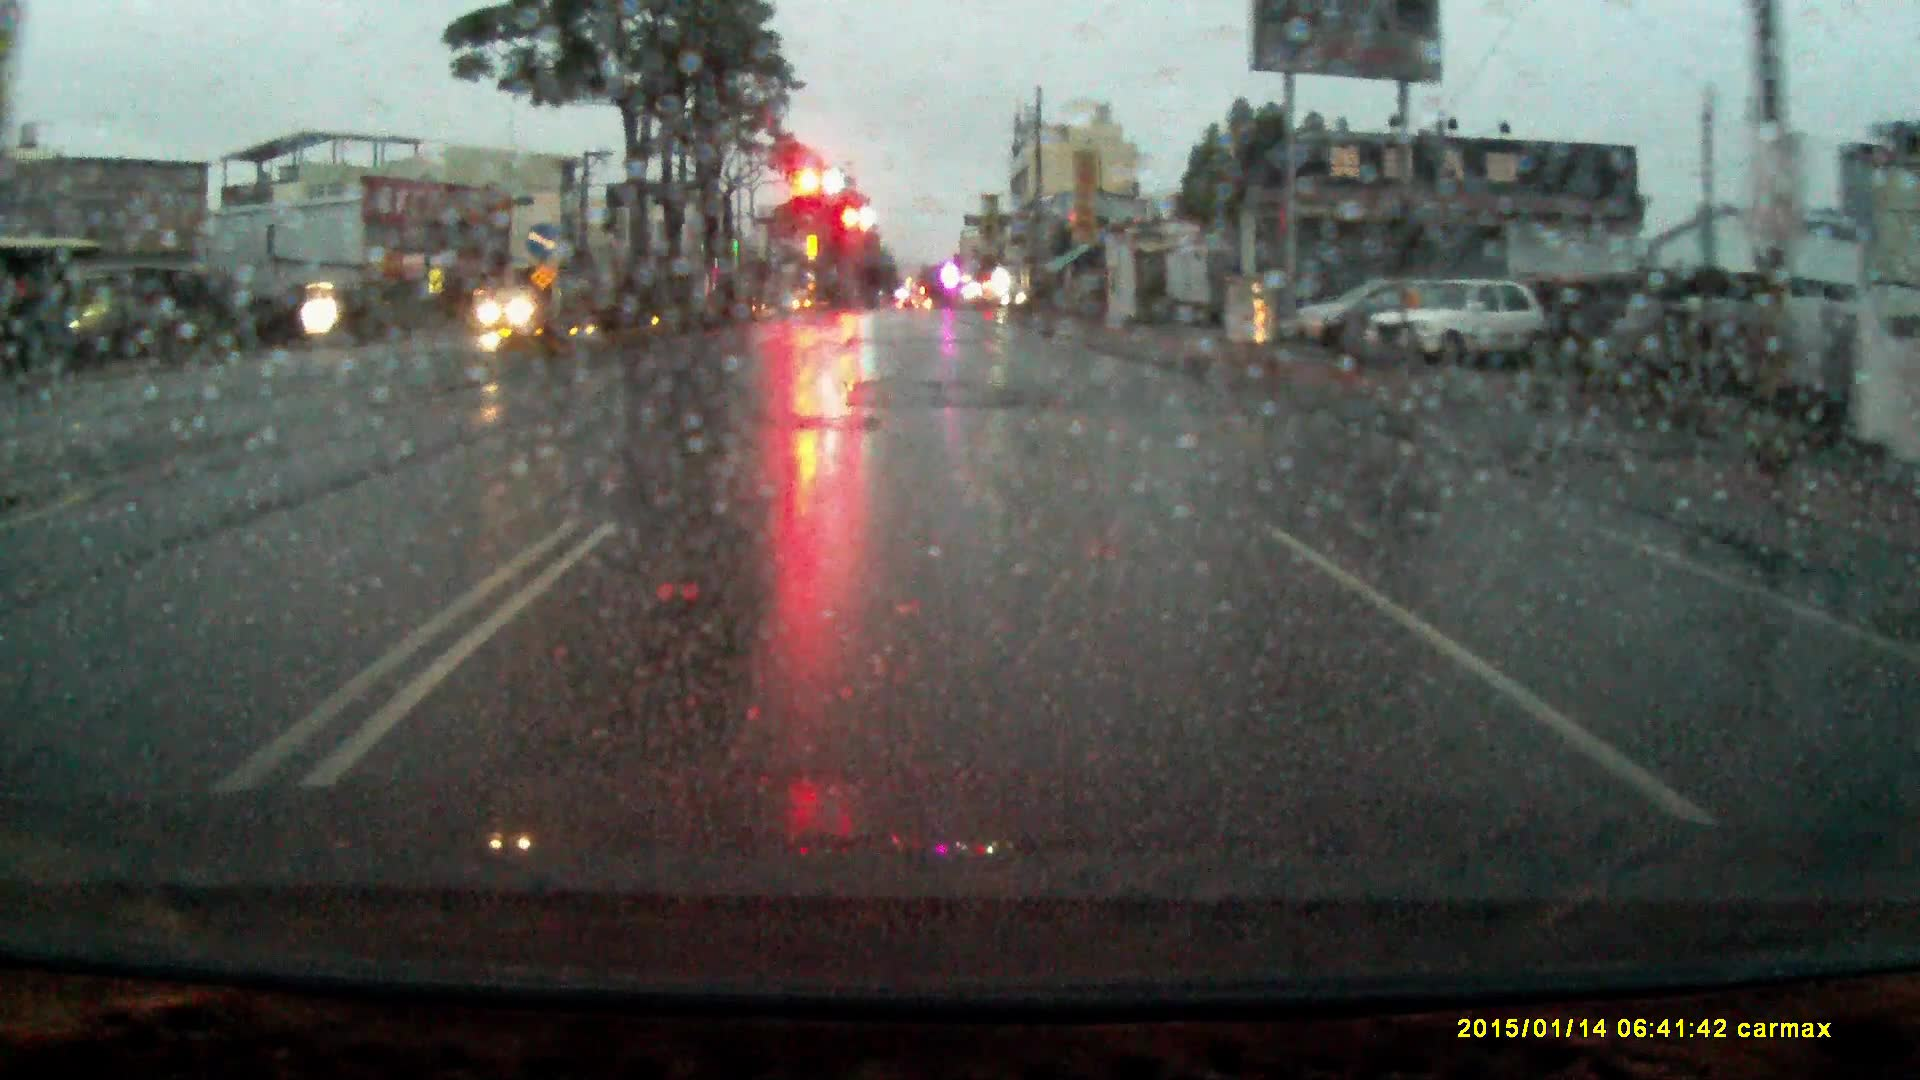vehicle: (1362, 277, 1548, 369), (1317, 280, 1462, 355), (1298, 285, 1400, 351), (477, 285, 562, 340), (1004, 284, 1058, 314)
